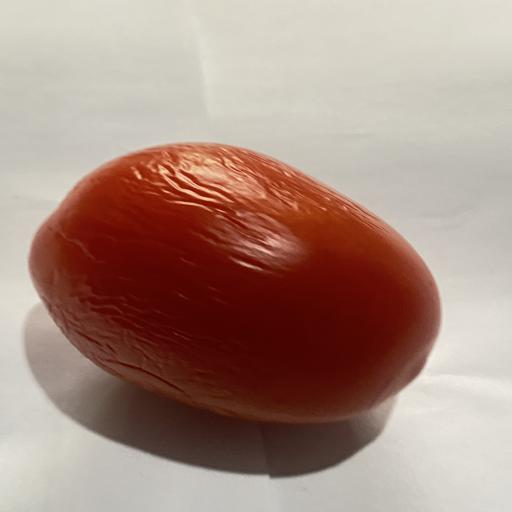spoiled: (29, 143, 441, 424)
